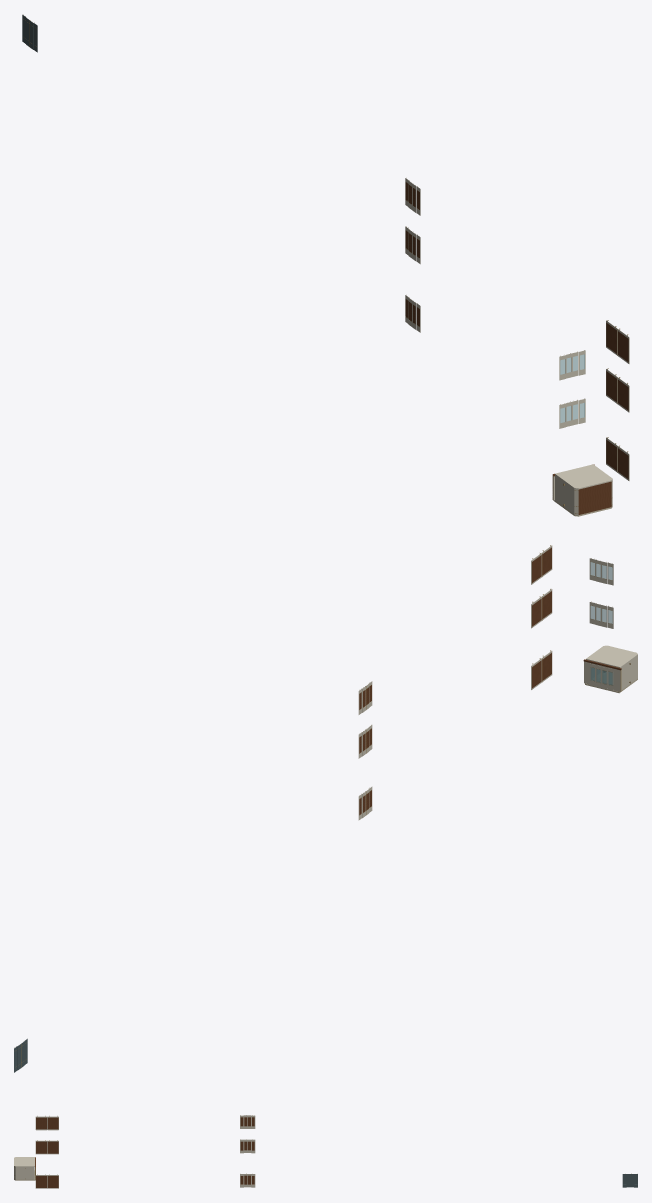
Rendered from AST-CUL-005_moving_003.glb.
3 renders of one model, top to bottom at view 1: azimuth 30°, elevation 25°; view 2: azimuth 150°, elevation 25°; view 3: azimuth 270°, elevation 25°, orthographic. The views are drawn at different scales.
Visible parts, largest first — view 1: C005_M_0860, C005_M_0865; view 2: C005_M_0860; view 3: C005_M_0860, C005_M_0811, C005_M_0841.
Boxes of the visible parts, x1,y1,x2,y2 form: C005_M_0860: (555, 464, 612, 514); C005_M_0865: (578, 481, 611, 514); C005_M_0860: (586, 645, 637, 690); C005_M_0860: (14, 1157, 34, 1179); C005_M_0811: (47, 1141, 58, 1153); C005_M_0841: (47, 1117, 58, 1129).
Bounding box in the file's own units: 9.99 × 18.25 × 140.
15 materials, 13 textured.
